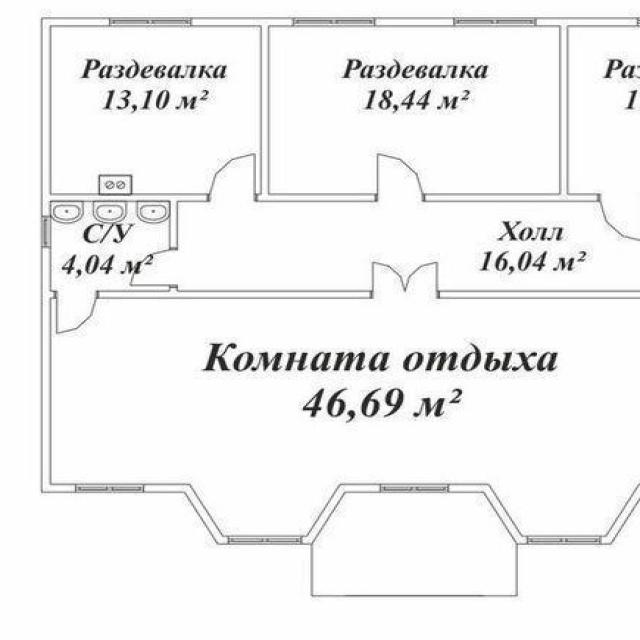Bathrooms: (51, 203, 169, 289)
Corridors: (179, 203, 640, 290), (312, 493, 518, 596)
Doors: (371, 260, 439, 300), (375, 152, 425, 203), (208, 151, 257, 202), (598, 192, 640, 242), (126, 248, 179, 287), (54, 290, 98, 335)
LBwalls: (41, 17, 109, 216), (40, 247, 76, 494), (144, 484, 229, 545), (300, 482, 381, 544), (451, 483, 527, 545), (601, 483, 640, 546), (537, 16, 640, 26), (190, 17, 292, 27), (376, 18, 454, 26)
Offices: (51, 299, 639, 536), (270, 26, 558, 193), (53, 27, 259, 193), (568, 26, 640, 192)
Walls: (423, 26, 601, 203), (253, 26, 378, 203), (50, 193, 210, 250), (96, 284, 374, 299), (437, 290, 640, 299), (51, 290, 57, 299)
Windows: (454, 16, 536, 27), (109, 18, 191, 28), (380, 483, 449, 494), (76, 483, 144, 494), (293, 17, 376, 26), (228, 536, 302, 545), (527, 536, 601, 545), (40, 215, 51, 247)
